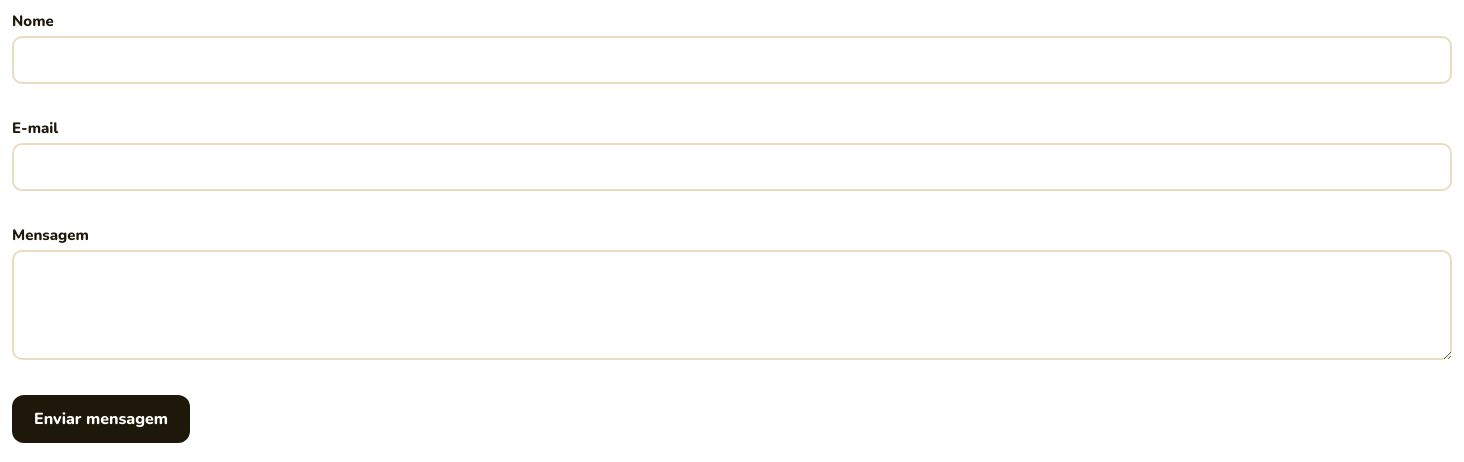
Test case: ContactForm › mostra o erro ao sair do campo inválido
Type "maria" into the field labelled "E-mail" at (732, 167), box [12,143,1452,191]
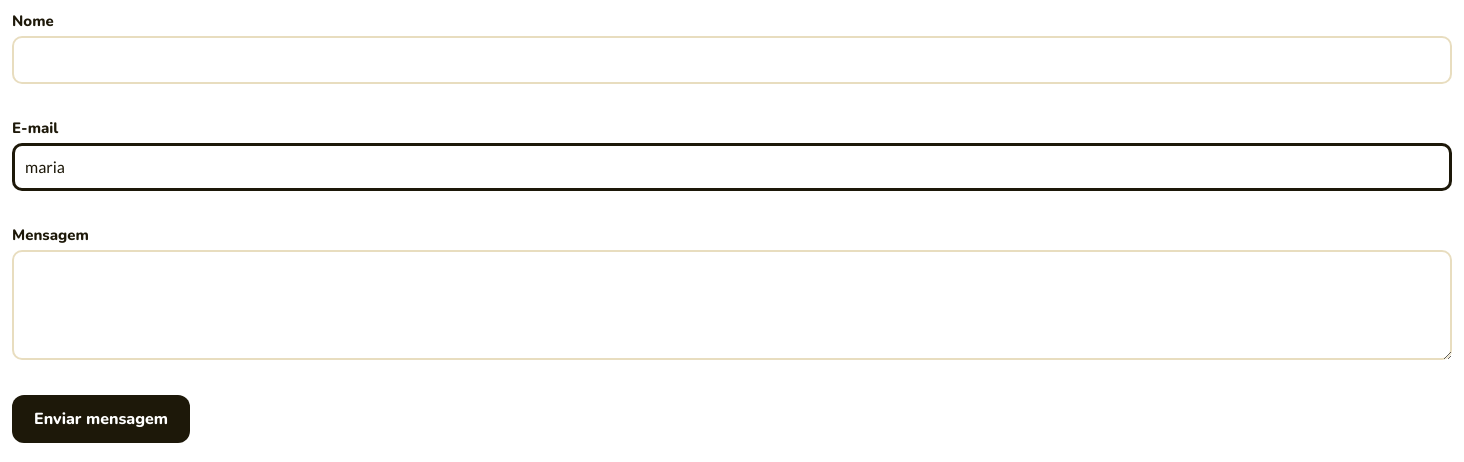
Press Tab
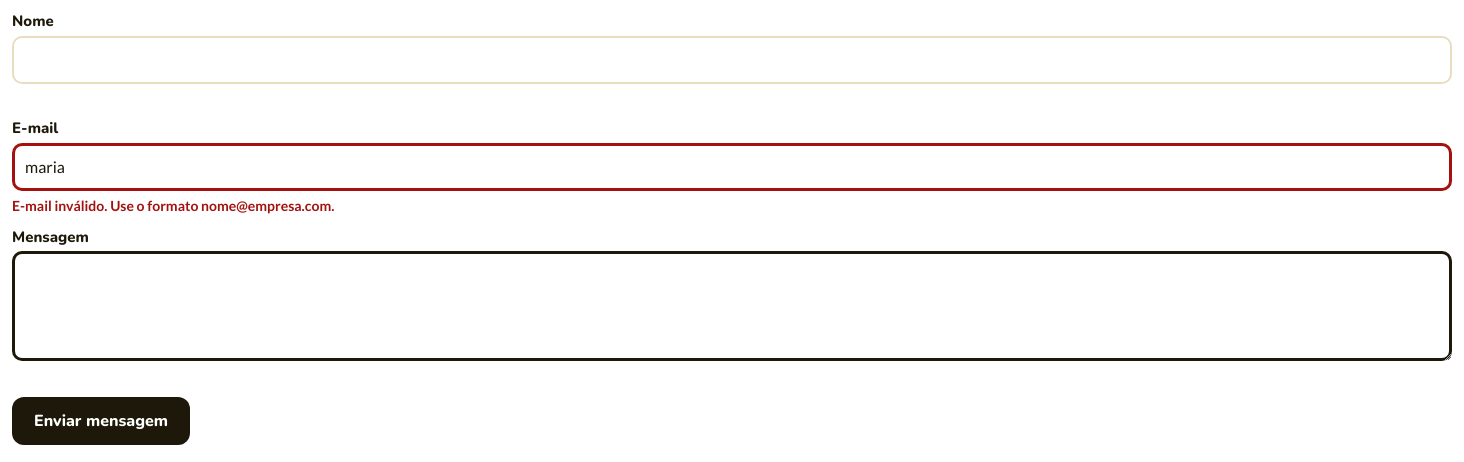
Expected: the text "E-mail inválido. Use o formato nome@empresa.com." is shown, [12,197,334,214]
